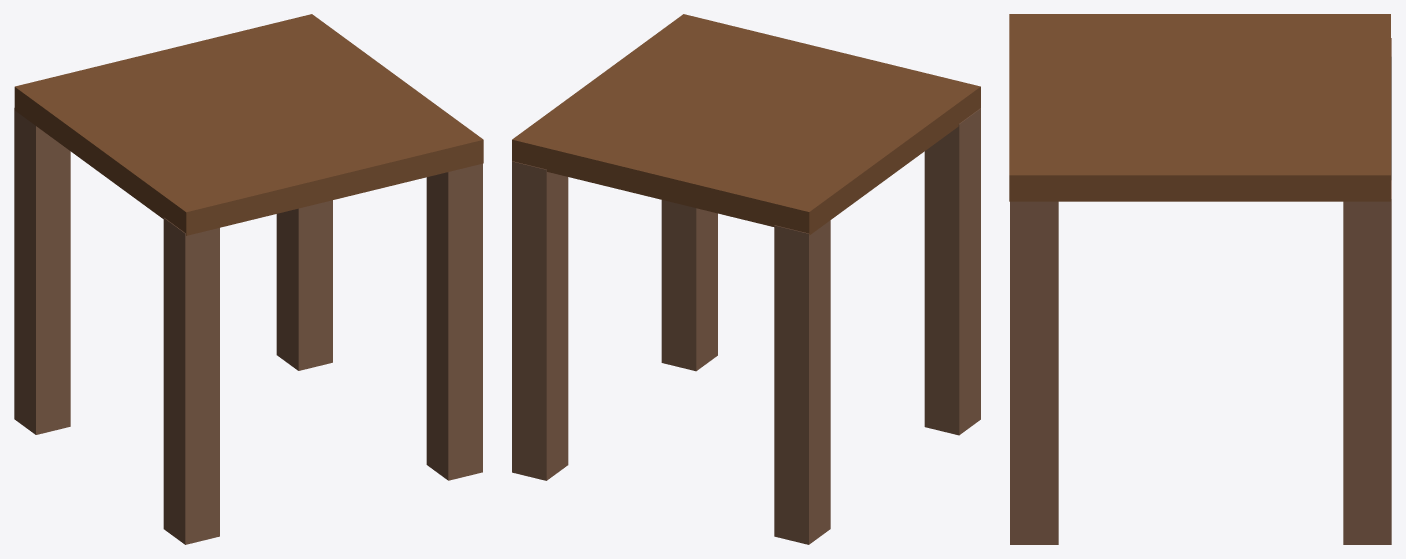
File: Small table.glb
3 renders of one model, left to right at view 1: azimuth 30°, elevation 25°; view 2: azimuth 150°, elevation 25°; view 3: azimuth 270°, elevation 25°, orthographic. The views are drawn at different scales.
Visible parts, largest first — view 1: Cube; view 2: Cube; view 3: Cube.
Boxes of the visible parts, box(x1,y1,x2,y2) form: Cube: box(14, 14, 483, 544); Cube: box(512, 14, 980, 544); Cube: box(1009, 14, 1391, 544).
Bounding box in the file's own units: 2 × 2.14 × 2.
